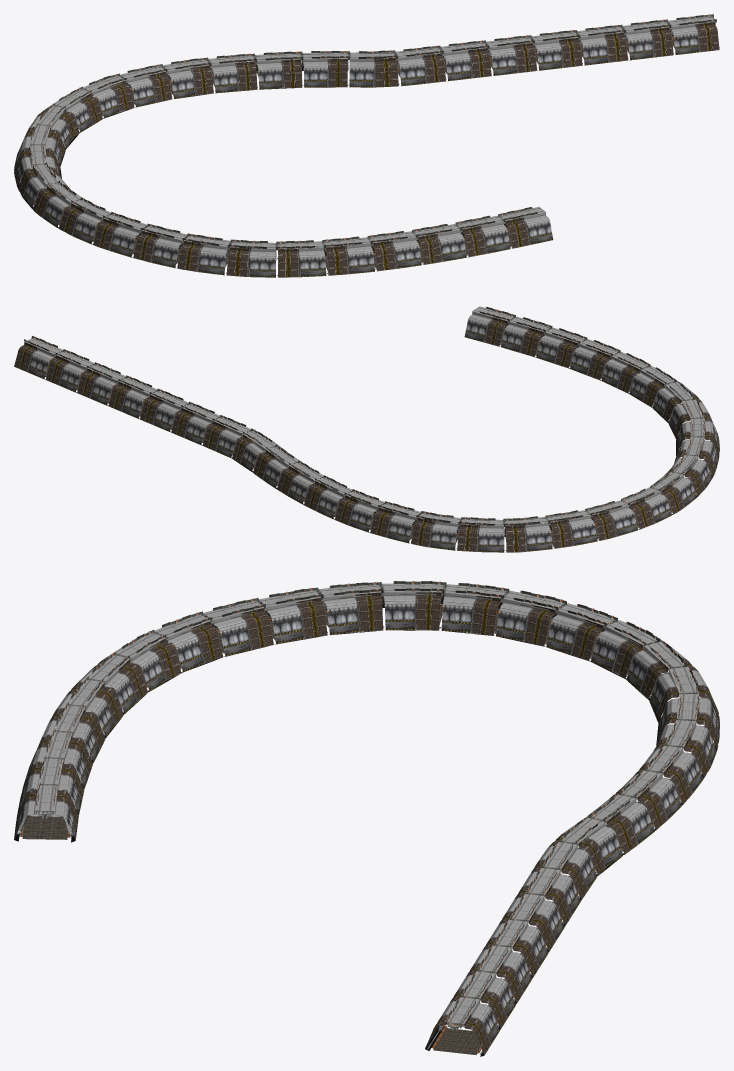
Rendered from testiram_cijelu_traku_traka6.obj.
3 renders of one model, top to bottom at view 1: azimuth 30°, elevation 25°; view 2: azimuth 150°, elevation 25°; view 3: azimuth 270°, elevation 25°, orthographic. The views are drawn at different scales.
Bounding box in the file's own units: 48.48 × 1.68 × 32.
